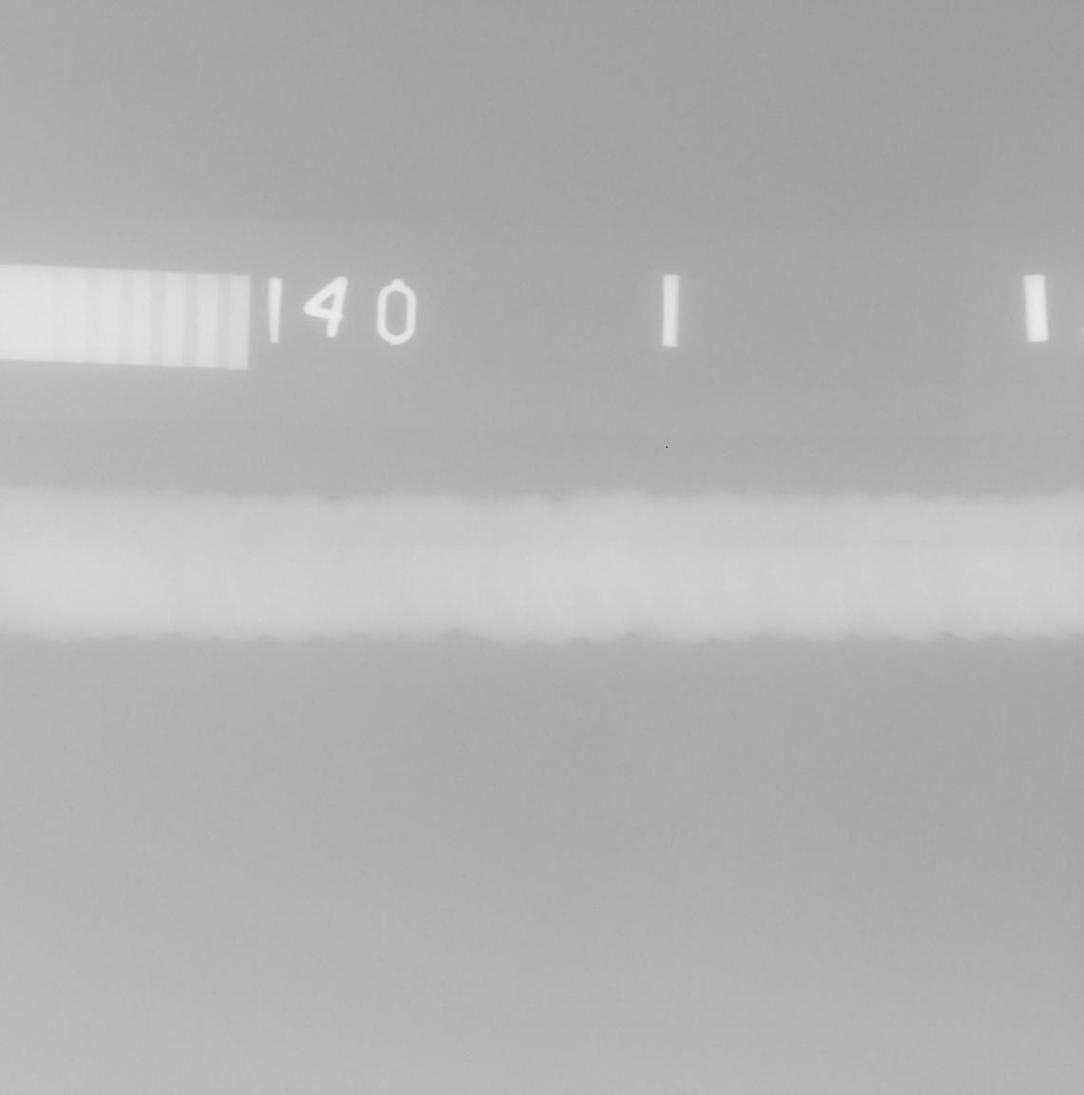Pore/Porosity: (134, 530, 141, 535), (526, 612, 530, 618)
